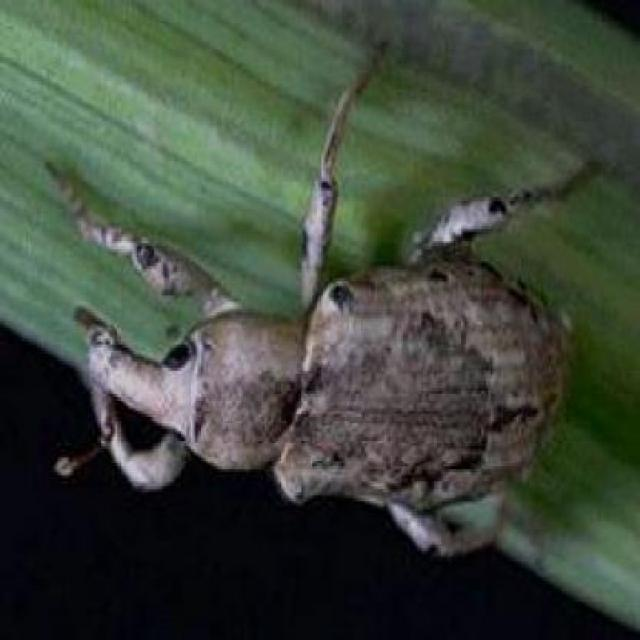rice-bug: (73, 48, 582, 552)
